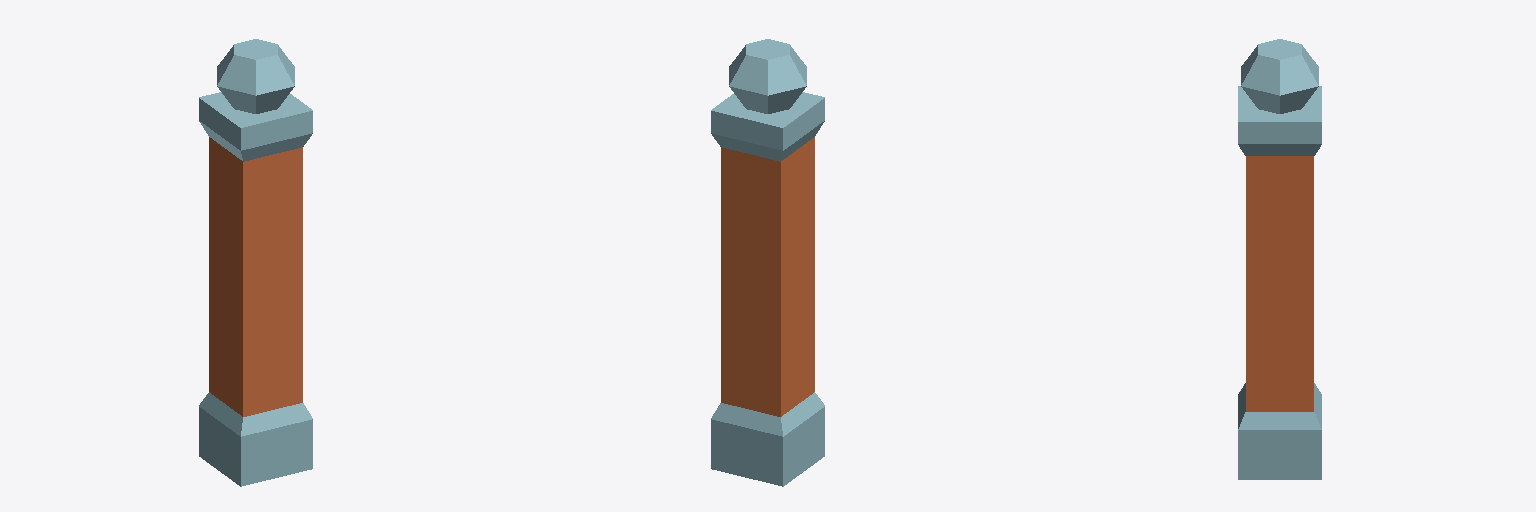
The model's file is pillarLarge.obj.
3 views of the same model, side by side, from view 1: azimuth 30°, elevation 25°; view 2: azimuth 150°, elevation 25°; view 3: azimuth 270°, elevation 25° (orthographic).
Visible parts, largest first — view 1: pillarLarge; view 2: pillarLarge; view 3: pillarLarge.
Part boxes in pixels (x1,y1,x2,y2): pillarLarge: (199, 39, 312, 486); pillarLarge: (711, 39, 824, 486); pillarLarge: (1238, 39, 1321, 479).
Size of the model in its own units: 0.18 by 0.91 by 0.168.